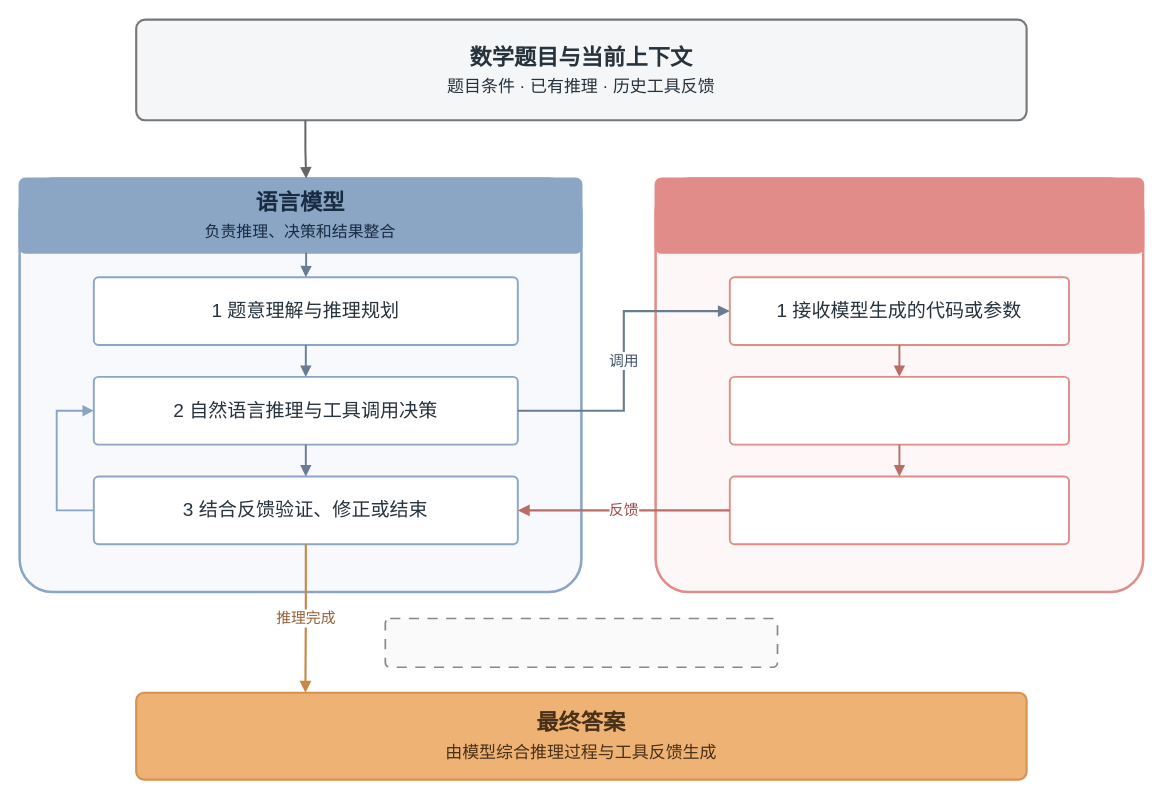
Image size: 1163x798. Some labels were removed from this diagram. The centre of each missing label's shape, as x and y in pixels:
"2 执行数值或符号计算" goes at point 898,410.
"3 返回结果或错误信息" goes at point 898,510.
"交互约束：工具调用预算与停止条件" goes at point 581,642.
"外部工具执行环境 负责执行，不决定求解策略" goes at point 899,215.
